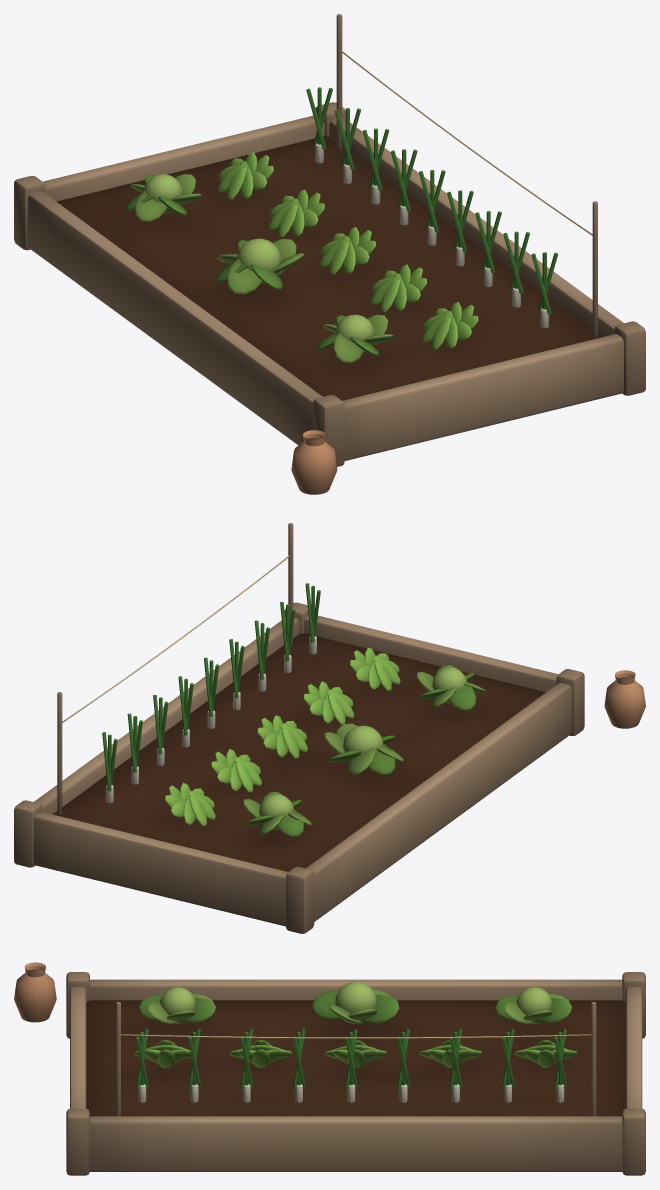
The model's file is obj_kit_vegbed.glb.
3 renders of one model, top to bottom at view 1: azimuth 30°, elevation 25°; view 2: azimuth 150°, elevation 25°; view 3: azimuth 270°, elevation 25°, orthographic. The views are drawn at different scales.
Visible parts, largest first — view 1: soil, Cube.002, Cube.003, Cube.001, Cube, jug, Cube.006, Cube.004, Cube.005, Sphere.008, Cylinder.037, Cylinder.036 (+3 smaller); view 2: soil, Cube.002, Cube.001, Cube.003, Cube, jug, Cube.005, Cube.007, Cube.004, Sphere.008, Cylinder.037, Sphere (+2 smaller); view 3: soil, Cube, Cube.002, Cube.001, Cube.003, jug, Cube.006, Cube.007, Sphere.008, twine, Sphere.016, Sphere (+10 smaller).
Boxes of the visible parts, <box> form: soil: <box>56,136,602,400</box>; Cube.002: <box>28,191,322,445</box>; Cube.003: <box>342,334,623,460</box>; Cube.001: <box>43,115,324,201</box>; Cube: <box>329,118,623,336</box>; jug: <box>291,430,337,494</box>; Cube.006: <box>614,321,645,395</box>; Cube.004: <box>313,395,344,466</box>; Cube.005: <box>14,176,45,250</box>; Sphere.008: <box>237,238,281,283</box>; Cylinder.037: <box>336,14,342,149</box>; Cylinder.036: <box>592,201,597,337</box>; soil: <box>53,633,545,871</box>; Cube.002: <box>306,683,571,921</box>; Cube.001: <box>33,811,287,926</box>; Cube.003: <box>304,615,558,691</box>; Cube: <box>34,617,299,814</box>; jug: <box>604,670,645,728</box>; Cube.005: <box>286,866,314,933</box>; Cube.007: <box>14,800,42,867</box>; Cube.004: <box>556,669,584,735</box>; Sphere.008: <box>342,725,383,754</box>; Cylinder.037: <box>57,692,62,814</box>; Sphere: <box>432,667,467,703</box>; soil: <box>86,1000,625,1116</box>; Cube: <box>89,1116,622,1171</box>; Cube.002: <box>89,979,622,1000</box>; Cube.001: <box>625,987,642,1108</box>; Cube.003: <box>70,987,86,1108</box>; jug: <box>14,962,56,1022</box>; Cube.006: <box>66,1108,89,1175</box>; Cube.007: <box>622,1108,645,1175</box>; Sphere.008: <box>334,981,376,1023</box>; twine: <box>121,1034,591,1038</box>; Sphere.016: <box>516,987,551,1023</box>; Sphere: <box>160,987,195,1023</box>.
Bounding box in the file's own units: 1.67 × 0.76 × 2.66.
